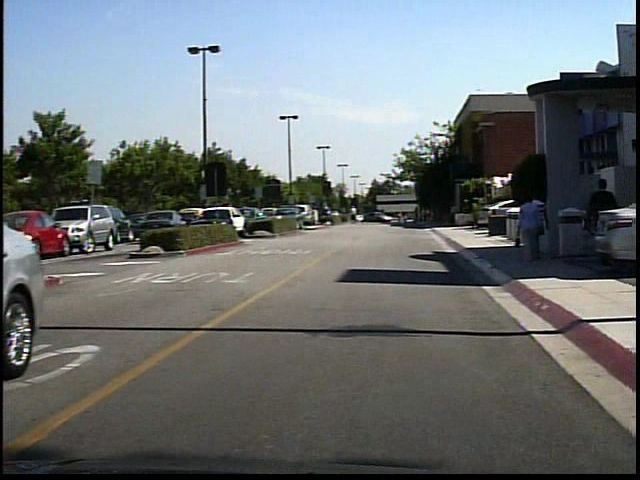person: (589, 171, 626, 266), (524, 190, 552, 266), (538, 189, 557, 262), (354, 202, 364, 226)
